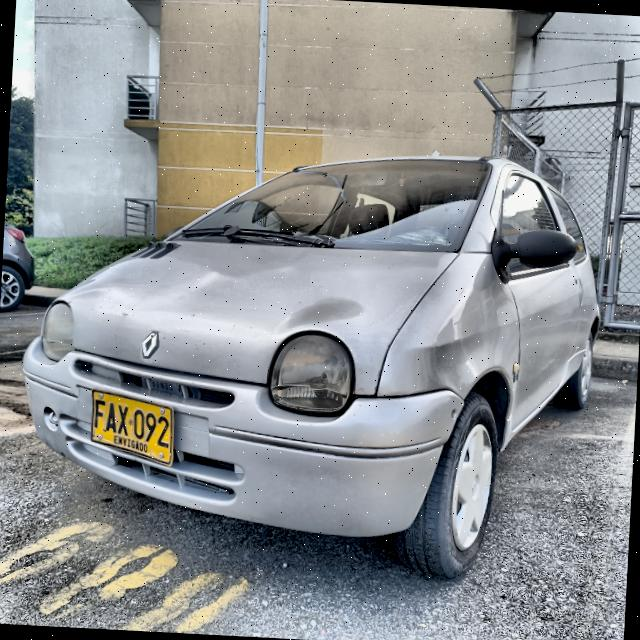plate: (92, 388, 172, 465)
